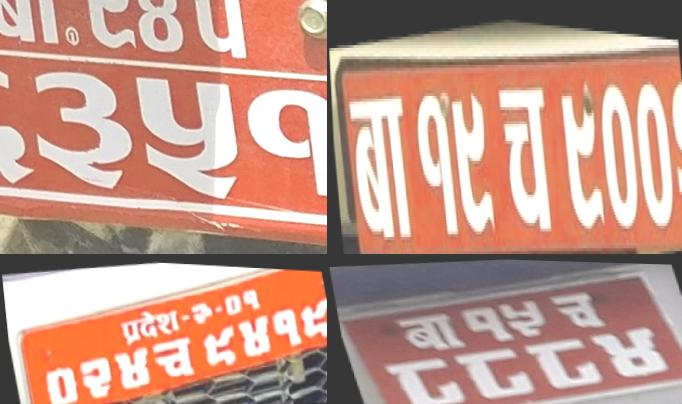0: (595, 64, 643, 228), (630, 63, 676, 227), (38, 363, 81, 404), (222, 289, 242, 314)
1: (226, 62, 327, 213), (406, 73, 460, 250), (453, 300, 514, 346), (269, 304, 300, 344), (240, 284, 262, 308)
2: (663, 61, 682, 224), (75, 354, 113, 402)
3: (9, 50, 142, 200), (188, 297, 214, 326)
4: (584, 324, 676, 382), (122, 0, 190, 55), (110, 345, 152, 387), (235, 311, 273, 357)
5: (115, 56, 252, 209), (493, 295, 558, 339)
6: (0, 44, 37, 194)
8: (448, 345, 534, 404), (519, 334, 604, 393), (372, 353, 466, 404)
9: (446, 74, 500, 242), (556, 62, 608, 235), (70, 0, 139, 51), (196, 321, 238, 364), (297, 292, 327, 339)
ba: (342, 70, 415, 254), (0, 0, 73, 51), (387, 309, 467, 354)
cha: (492, 60, 556, 243), (544, 286, 616, 333), (149, 333, 194, 379)
pa: (179, 0, 261, 64)
